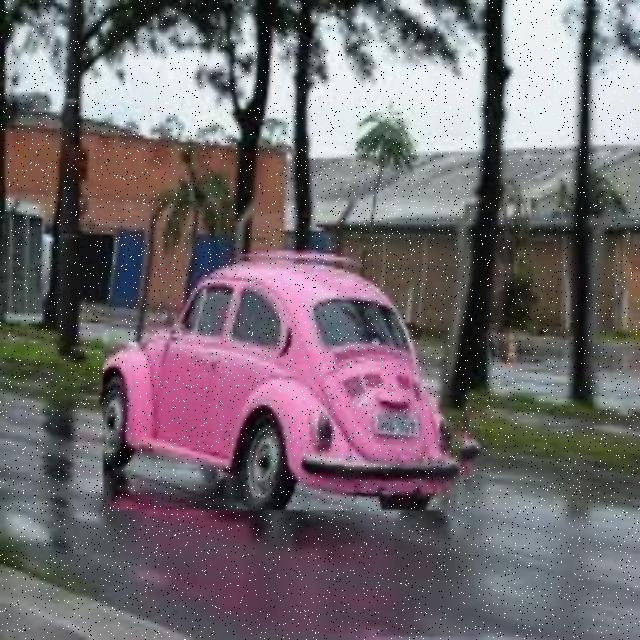car: (104, 249, 481, 511)
